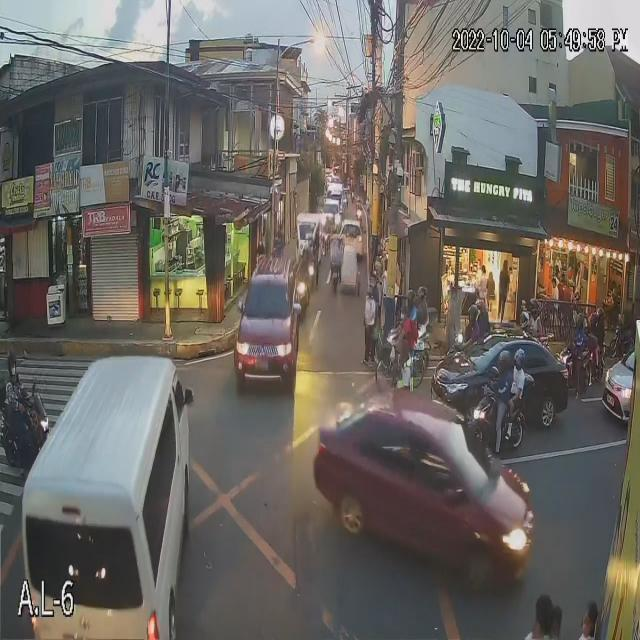helmet: (4, 347, 21, 379), (510, 347, 530, 372), (496, 349, 514, 371), (466, 302, 478, 327), (415, 285, 430, 303), (518, 310, 532, 328), (572, 315, 586, 333), (403, 292, 419, 307), (530, 295, 544, 312), (476, 296, 488, 315), (594, 307, 611, 319)
motorcycle: (0, 394, 56, 465), (468, 396, 529, 454), (559, 345, 609, 389), (378, 327, 436, 363)
rider: (486, 341, 516, 411), (5, 345, 26, 428), (513, 346, 532, 415), (523, 294, 546, 343), (415, 279, 436, 327), (593, 298, 615, 343), (475, 293, 499, 334), (461, 306, 484, 347), (401, 290, 417, 339), (569, 312, 586, 352), (515, 306, 532, 342)
